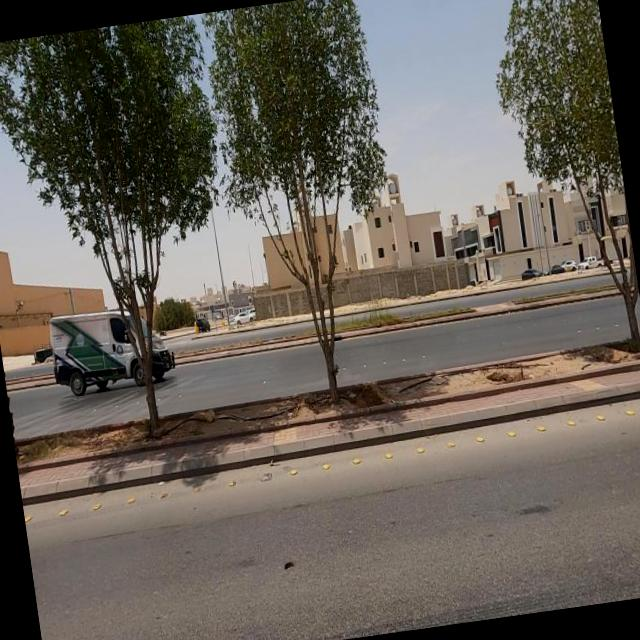debris: (146, 380, 300, 450), (376, 353, 454, 418)
